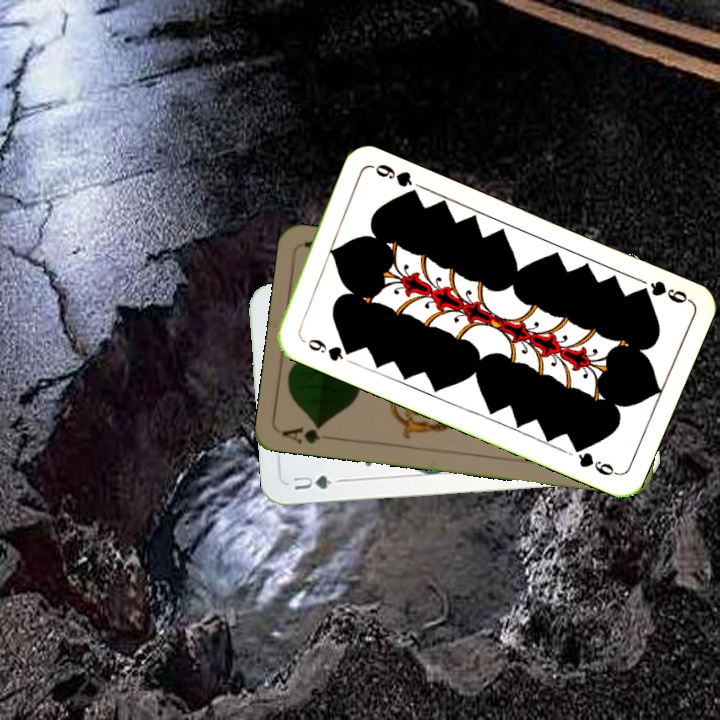G9: (632, 276, 692, 306), (303, 334, 355, 364)
GA: (279, 420, 338, 446)
GU: (289, 471, 335, 493)
